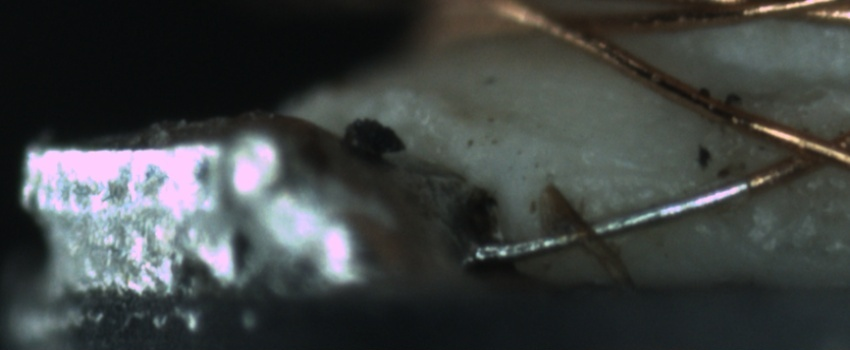CL: (729, 107, 850, 196)
DL: (534, 147, 682, 197)
TS: (467, 181, 749, 263)
